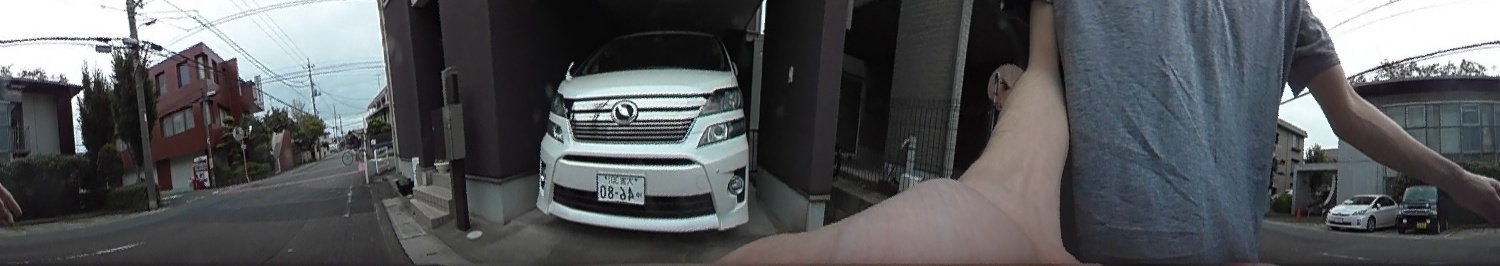difficult_person: (342, 128, 362, 155)
